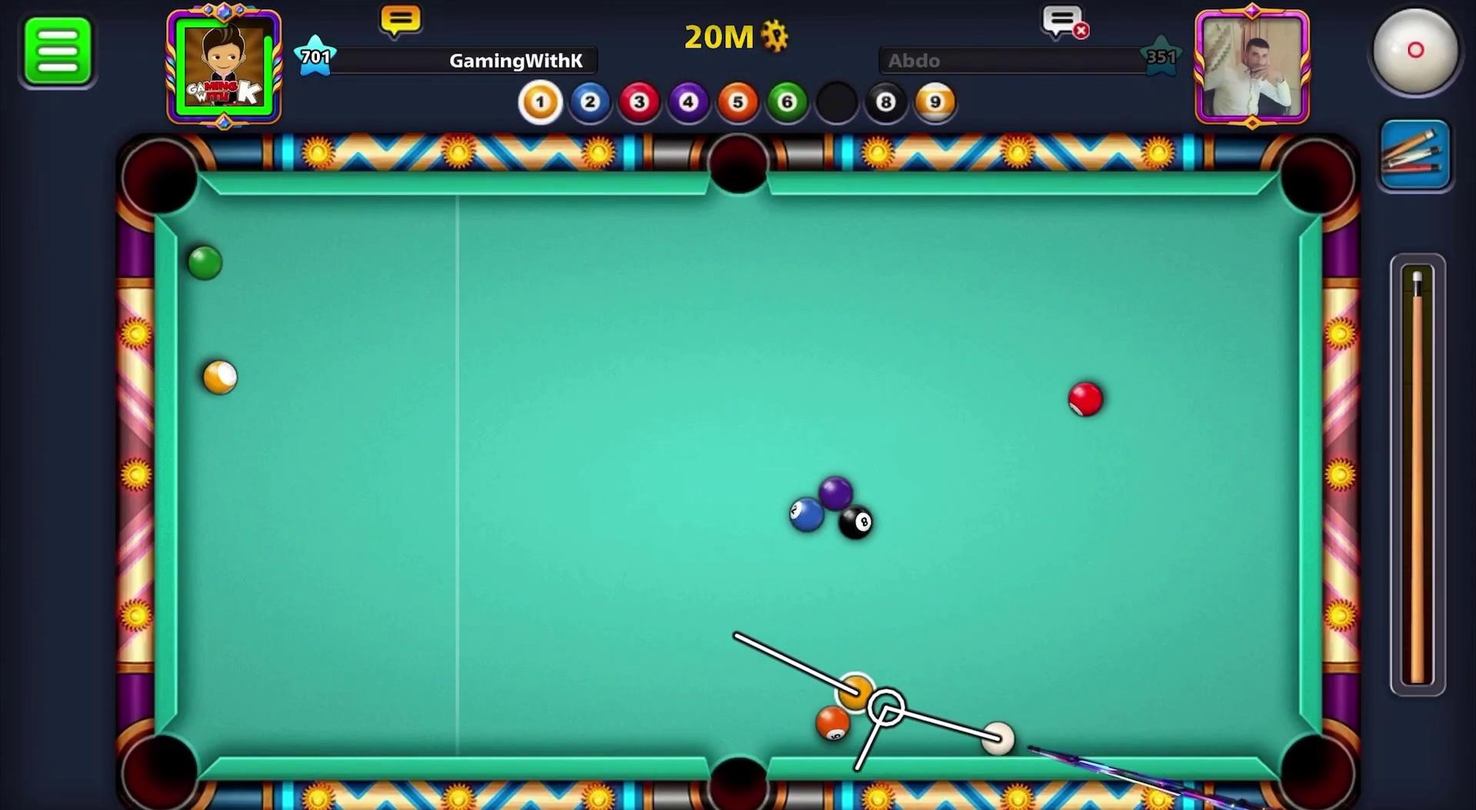Ball: (806, 697, 862, 750), (198, 349, 243, 404), (780, 491, 829, 540), (830, 668, 883, 713), (1062, 377, 1110, 425), (833, 502, 880, 548), (817, 467, 857, 514), (182, 241, 224, 284)
Force: (1384, 250, 1454, 700)
Guideline: (724, 624, 1002, 776)
Hole: (107, 127, 216, 235), (1268, 129, 1365, 230), (109, 717, 213, 809), (1265, 715, 1364, 809), (686, 739, 785, 809), (701, 124, 777, 204)
Play_Area: (177, 192, 1298, 761)
Spin: (1346, 0, 1475, 112)
White: (974, 717, 1026, 759)
